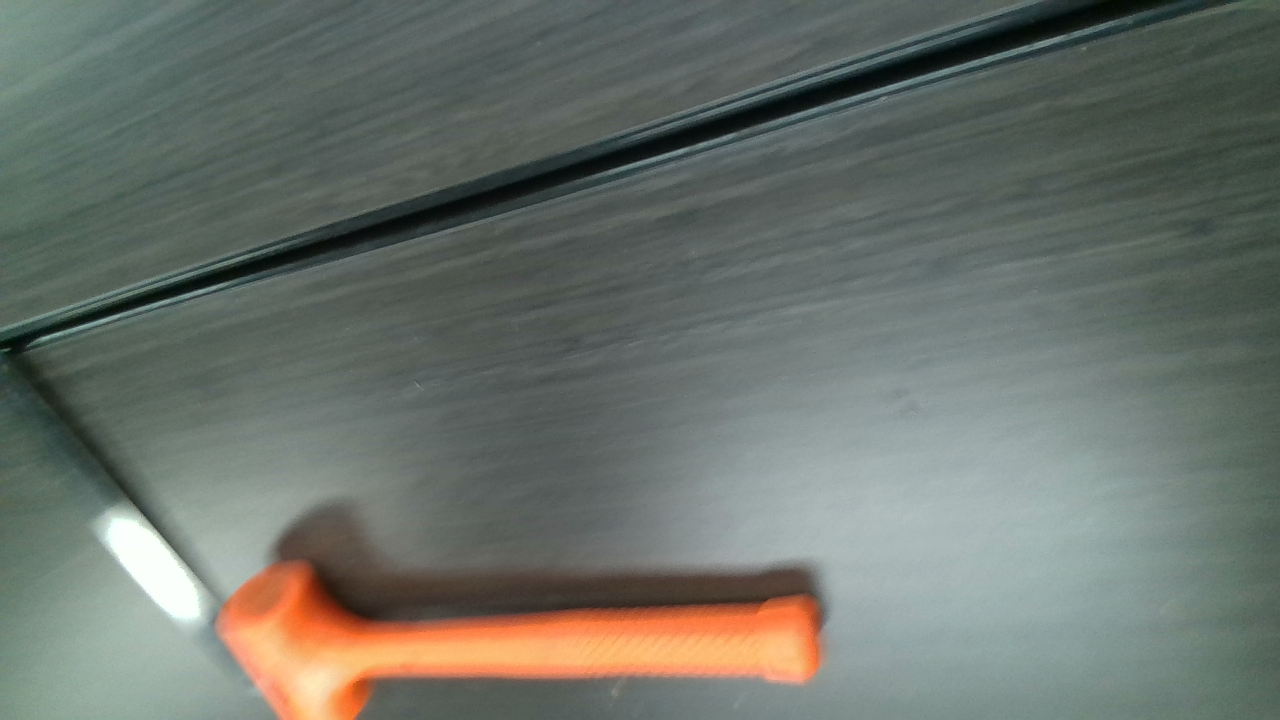Orange Hammer: (225, 560, 819, 719)
